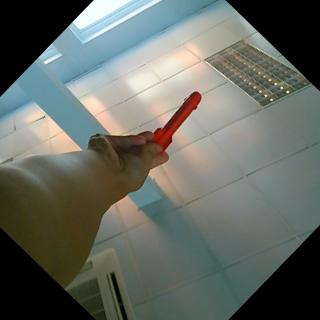Rocket: (148, 88, 210, 151)
